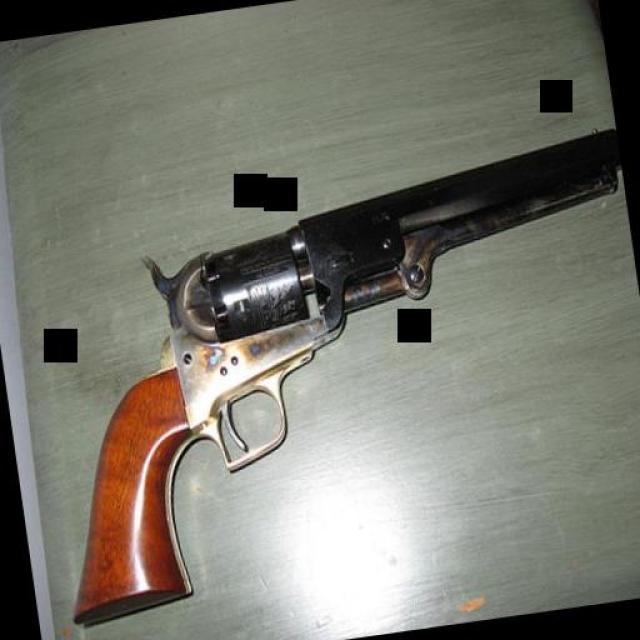gun: (12, 120, 640, 630)
